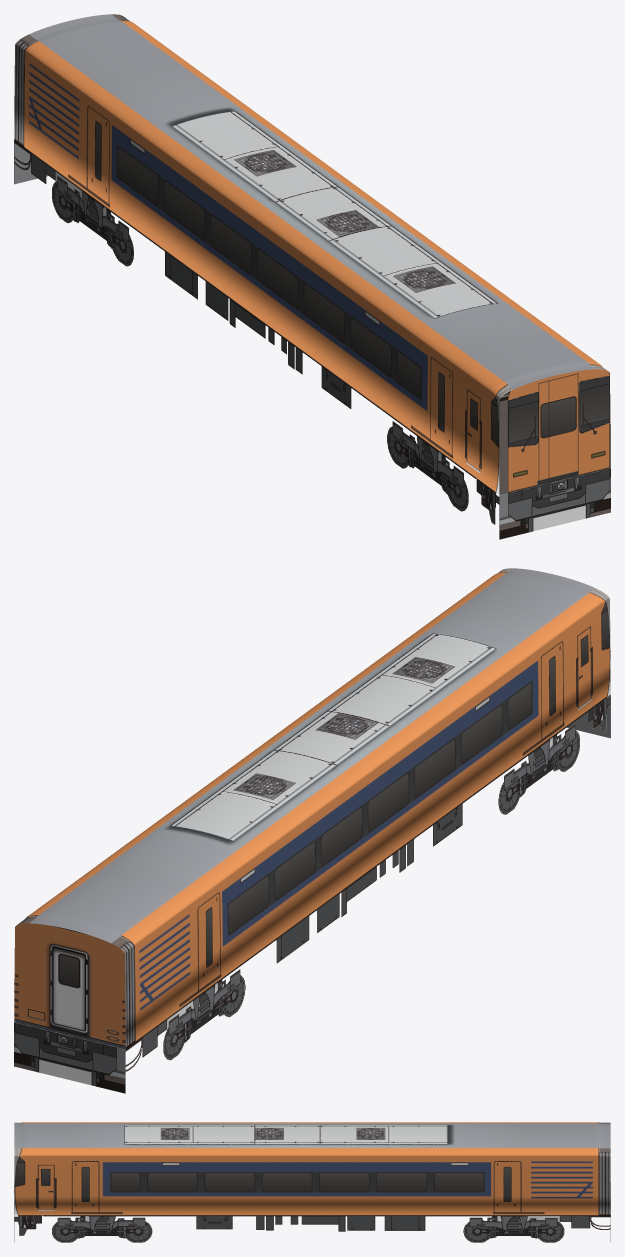
File: car1.glb
3 views of the same model, one above another, from view 1: azimuth 30°, elevation 25°; view 2: azimuth 150°, elevation 25°; view 3: azimuth 270°, elevation 25° (orthographic). The views are drawn at different scales.
Visible parts, largest first — view 1: kintetsu-22000-car1; view 2: kintetsu-22000-car1; view 3: kintetsu-22000-car1.
Part boxes in pixels (bbox=[...]): kintetsu-22000-car1: bbox=[14, 14, 610, 539]; kintetsu-22000-car1: bbox=[14, 568, 610, 1093]; kintetsu-22000-car1: bbox=[14, 1122, 610, 1242].
Size of the model in its own units: 2.8 by 3.63 by 21.14.
8 materials, 7 textured.
